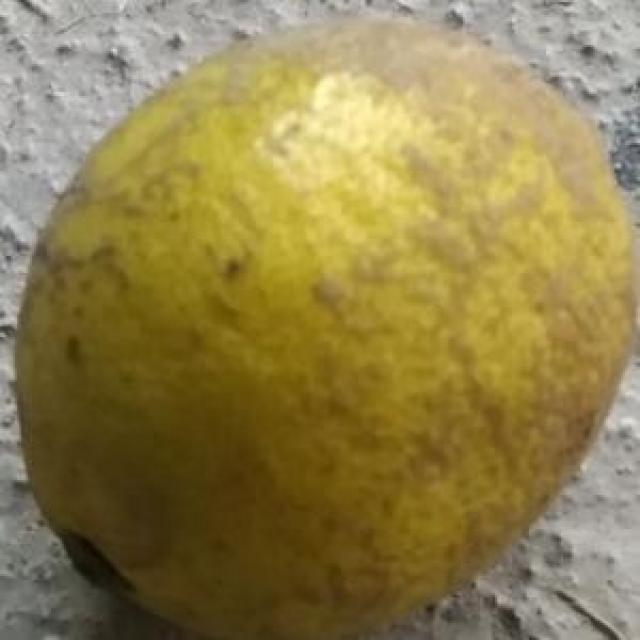lemon: (20, 24, 640, 640)
